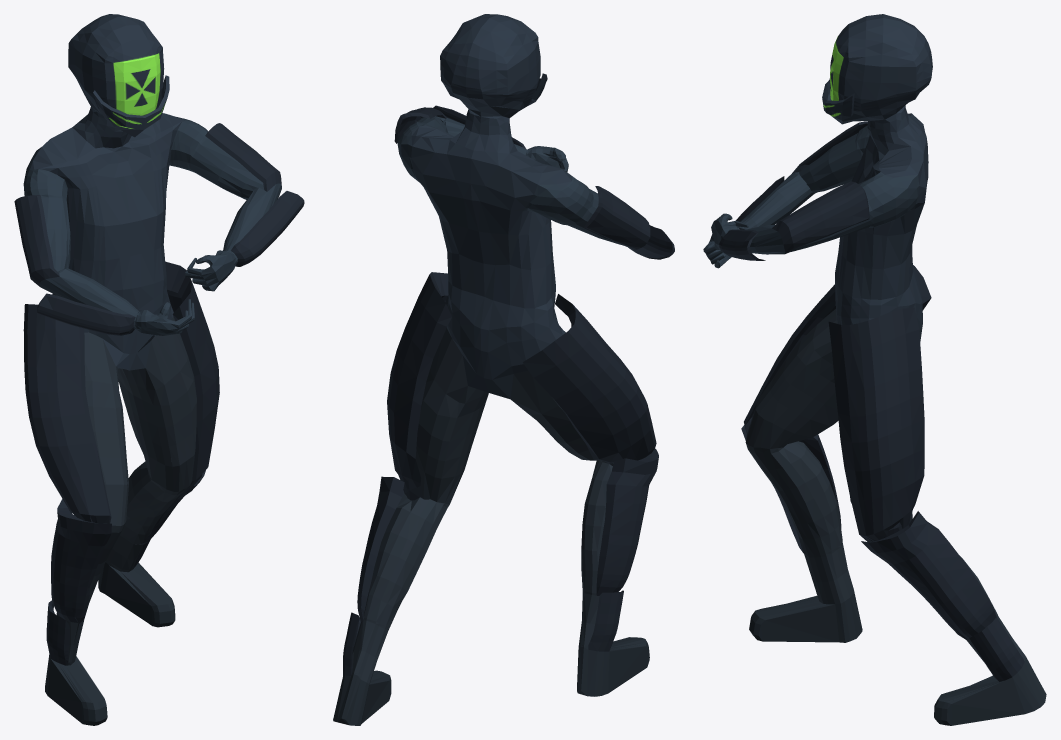
The model's file is Bastion_Hit_Recover_000013.obj.
3 views of the same model, side by side, from view 1: azimuth 30°, elevation 25°; view 2: azimuth 150°, elevation 25°; view 3: azimuth 270°, elevation 25° (orthographic). The views are drawn at different scales.
Parts seen in each view (by area): view 1: Cube.002; view 2: Cube.002; view 3: Cube.002.
Boxes of the visible parts, x1=… form: Cube.002: x1=14, y1=14, x2=304, y2=725; Cube.002: x1=333, y1=14, x2=674, y2=725; Cube.002: x1=703, y1=14, x2=1046, y2=725.
Bounding box in the file's own units: 1.47 × 3.64 × 1.7.
